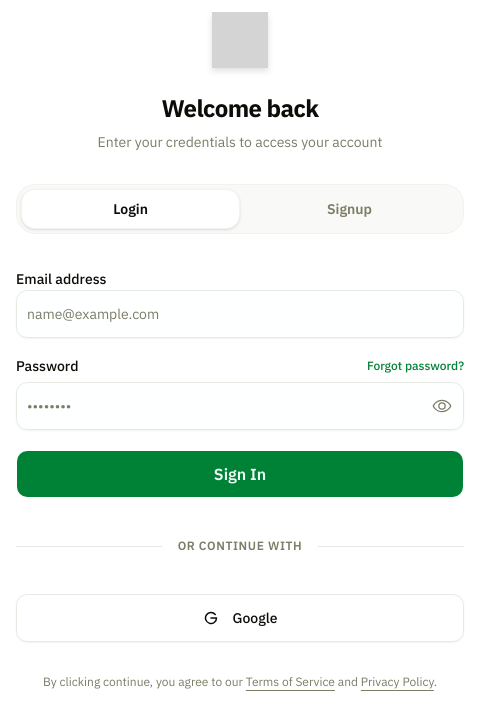
Test case: AuthForm Component › switches to forgot password mode
The image size is (481, 708).
Find forgot password button
Click the button "Forgot password?" at (416, 366), box 367,358 -> 464,374
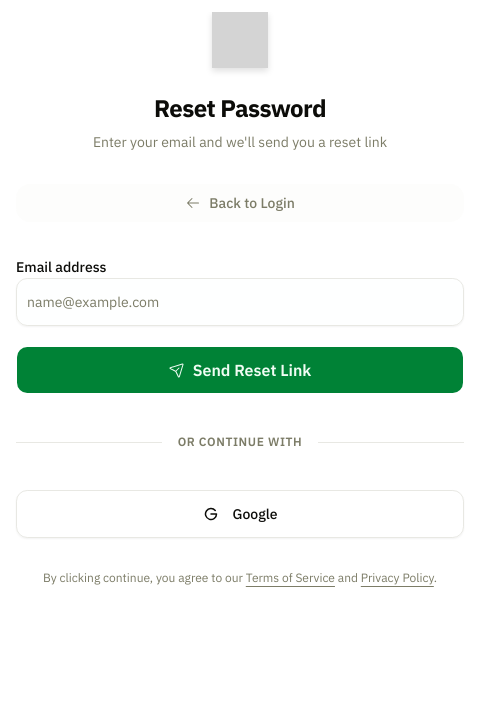
expect the heading "Reset Password" is shown: met, box 154,92 -> 326,124
expect the text "Send Reset Link" is shown: met, box 169,358 -> 311,382
